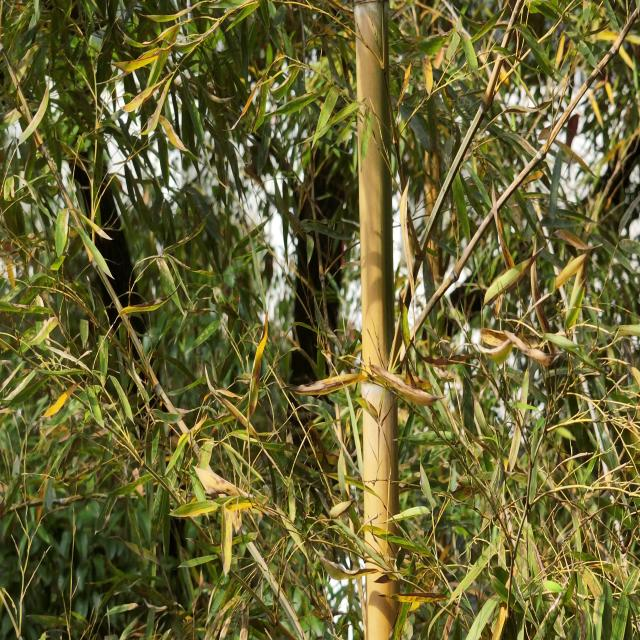Bamboo-shoots: (356, 0, 404, 640)
